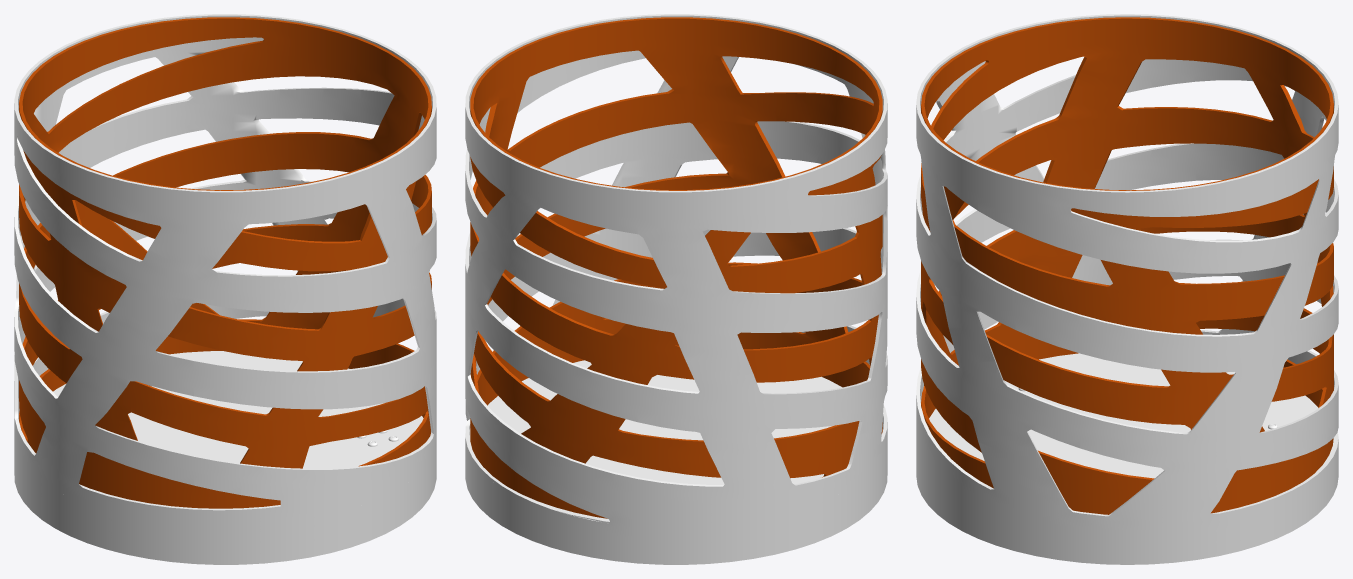
The model's file is kamin.glb.
3 views of the same model, side by side, from view 1: azimuth 30°, elevation 25°; view 2: azimuth 150°, elevation 25°; view 3: azimuth 270°, elevation 25° (orthographic).
Parts seen in each view (by area): view 1: белый внешн, оранжевый внутр, низ белый; view 2: белый внешн, оранжевый внутр, низ белый; view 3: белый внешн, оранжевый внутр, низ белый.
Part boxes in pixels (x1=…): белый внешн: x1=14, y1=14, x2=436, y2=564; оранжевый внутр: x1=19, y1=17, x2=431, y2=508; низ белый: x1=14, y1=351, x2=423, y2=533; белый внешн: x1=465, y1=14, x2=887, y2=564; оранжевый внутр: x1=470, y1=17, x2=882, y2=518; низ белый: x1=469, y1=360, x2=887, y2=533; белый внешн: x1=916, y1=14, x2=1338, y2=564; оранжевый внутр: x1=921, y1=17, x2=1333, y2=514; низ белый: x1=919, y1=353, x2=1338, y2=531.
Bounding box in the file's own units: 0.04 × 0.04 × 0.04.
